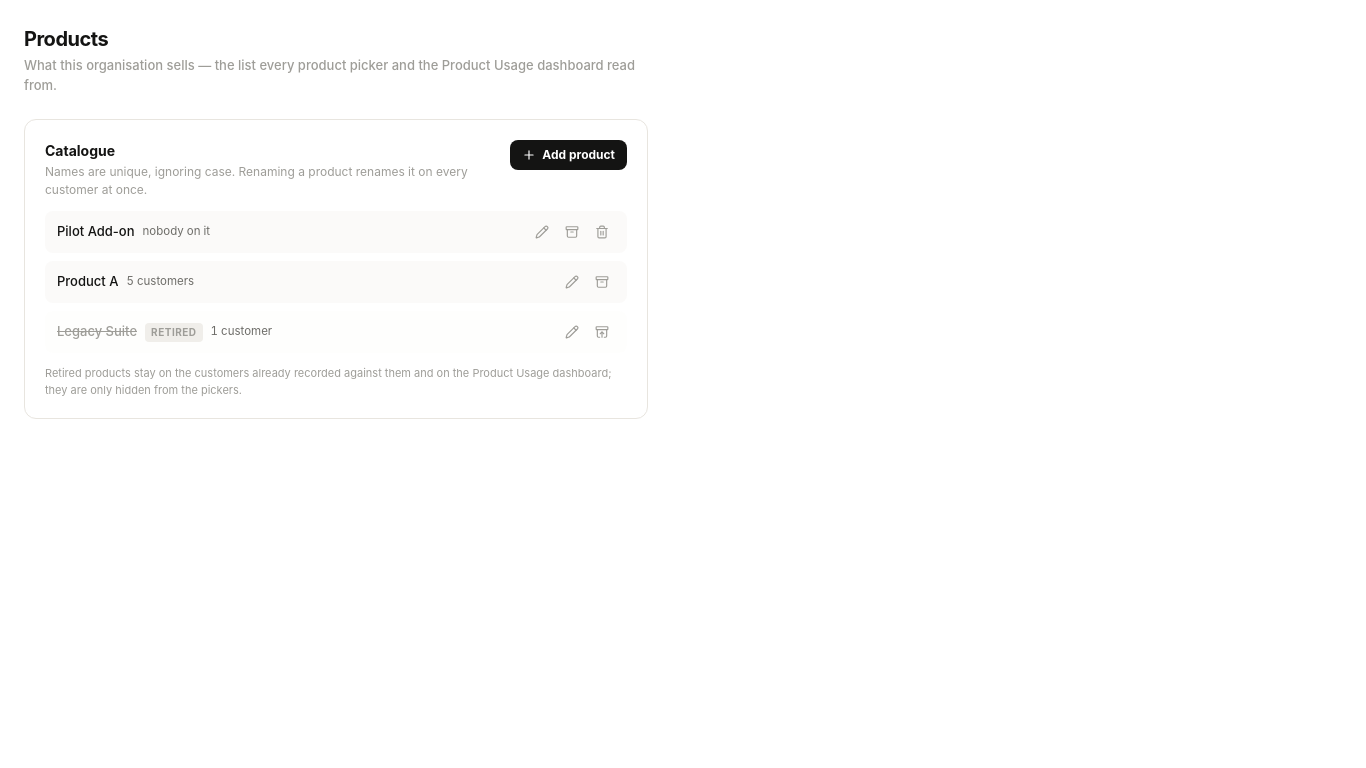
Test: ProductsPage › deletes a product nobody is on, after confirming
Expected: the text "Pilot Add-on" is shown, [57,222,134,242]
Click the button named "Delete Pilot Add-on" at (602, 232), box [589,219,615,245]
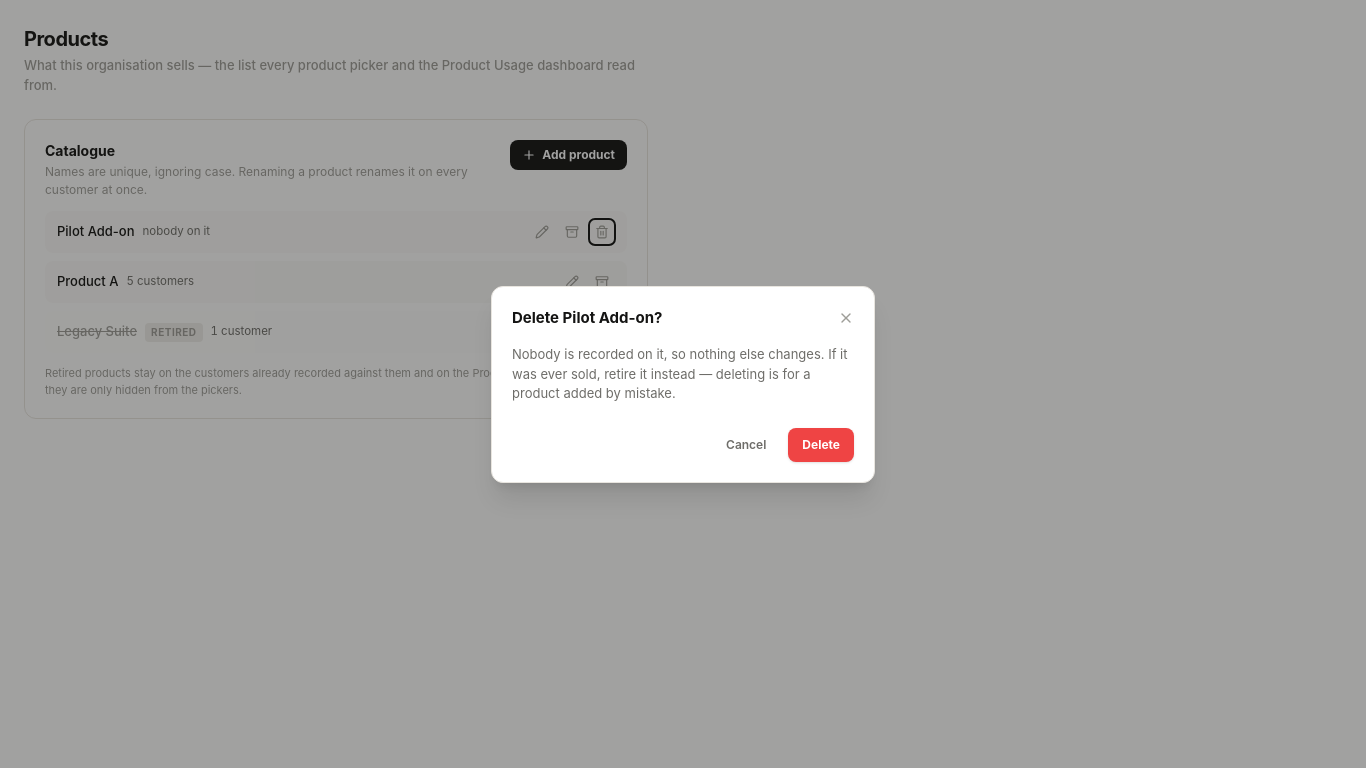
Click the button "Delete" at (821, 444), box [788,428,854,462]
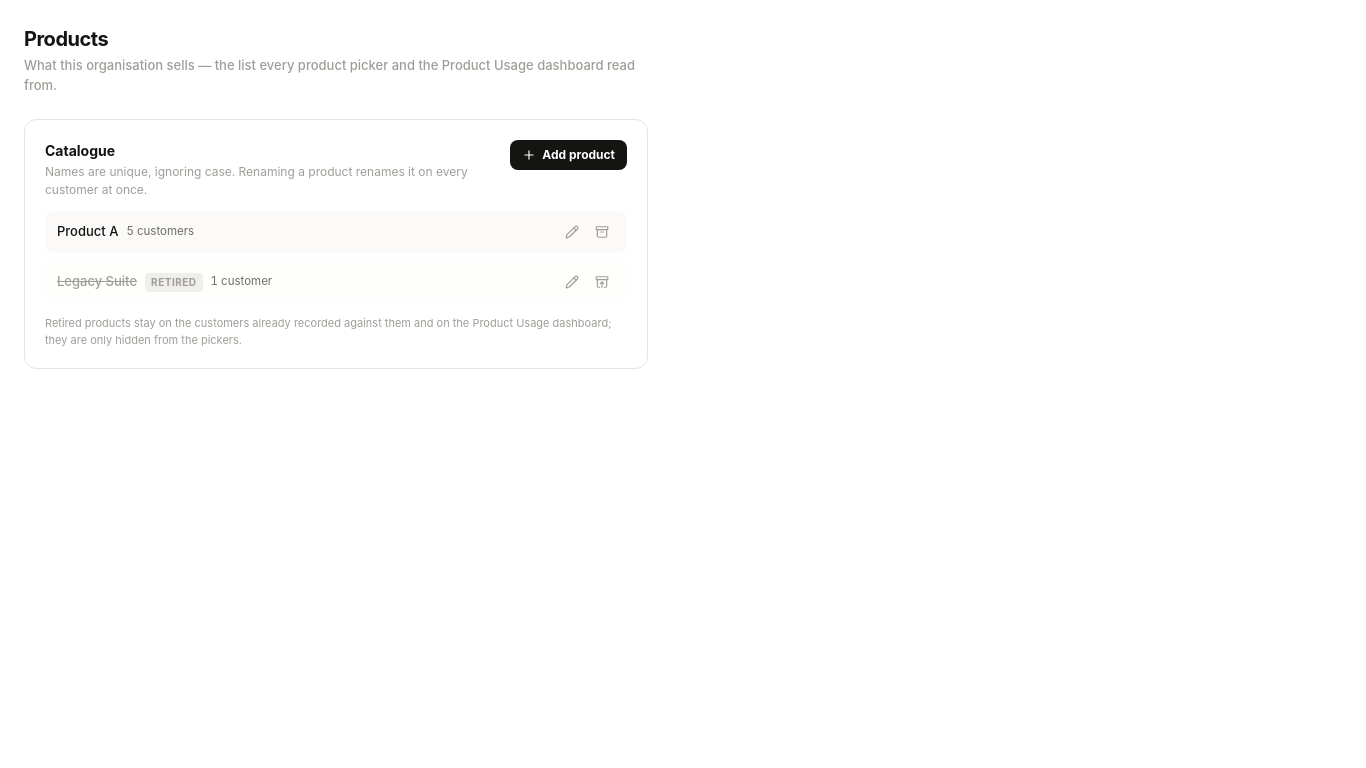
Result: the text "Pilot Add-on" is gone
